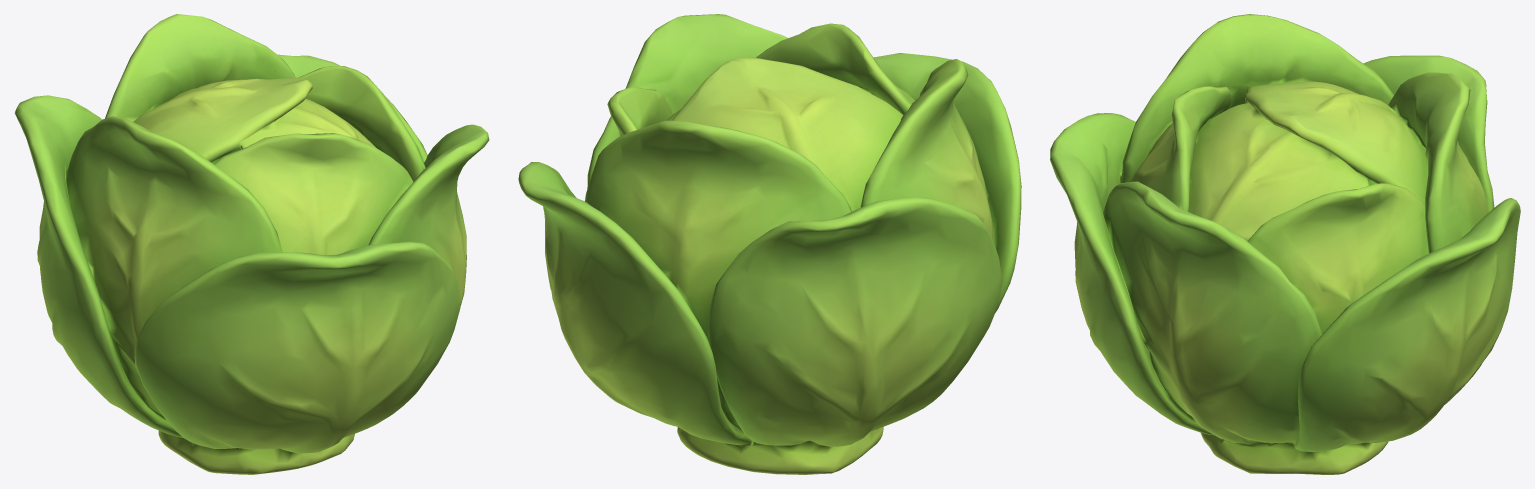
The model's file is cabbage_1k.glb.
3 renders of one model, left to right at view 1: azimuth 30°, elevation 25°; view 2: azimuth 150°, elevation 25°; view 3: azimuth 270°, elevation 25°, orthographic. The views are drawn at different scales.
Visible parts, largest first — view 1: tripo_node_037c8b53-38f4-4d28-b2e4-917cd733979b; view 2: tripo_node_037c8b53-38f4-4d28-b2e4-917cd733979b; view 3: tripo_node_037c8b53-38f4-4d28-b2e4-917cd733979b.
Part boxes in pixels (x1,y1,x2,y2): tripo_node_037c8b53-38f4-4d28-b2e4-917cd733979b: (14,14,489,474); tripo_node_037c8b53-38f4-4d28-b2e4-917cd733979b: (518,14,1021,474); tripo_node_037c8b53-38f4-4d28-b2e4-917cd733979b: (1050,14,1520,474).
Bounding box in the file's own units: 0.9281 × 0.8218 × 0.98.
Materials: 1 (1 with a texture image).
